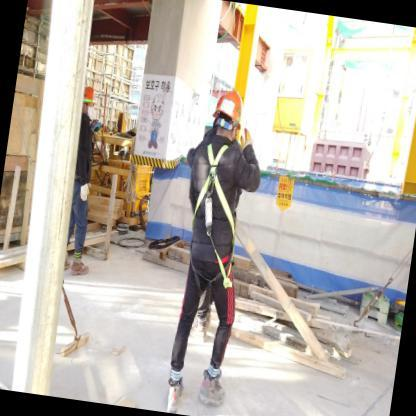safety-shoe: (194, 370, 232, 416), (157, 382, 187, 415), (68, 249, 94, 280)
